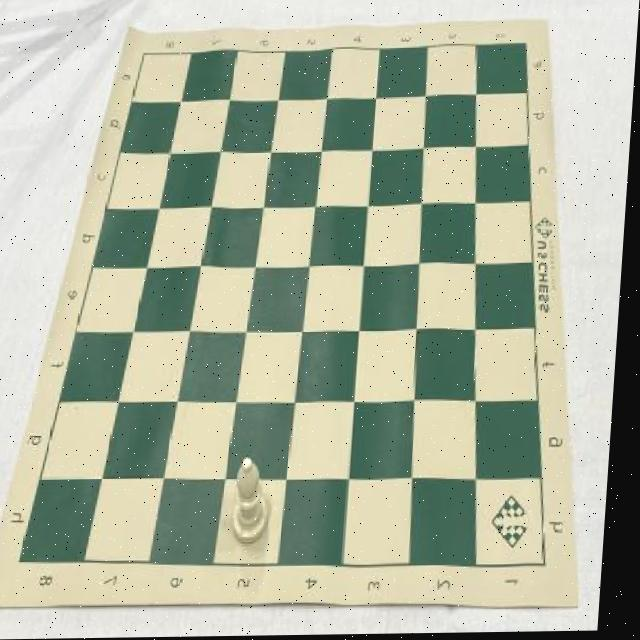black-rook: (238, 458, 279, 547)
